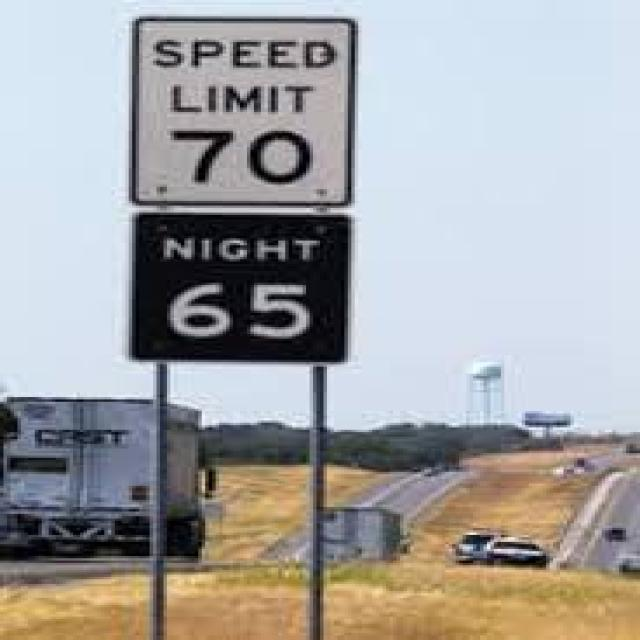speedLimit70: (129, 13, 351, 214)
